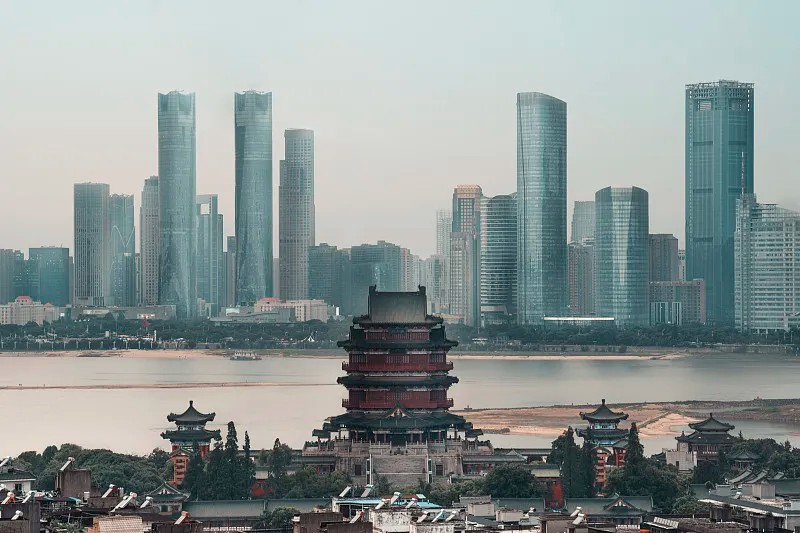Teng: (311, 285, 484, 446)
